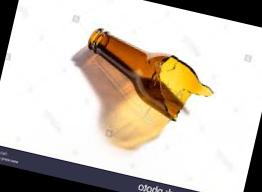glass: (72, 15, 232, 136)
